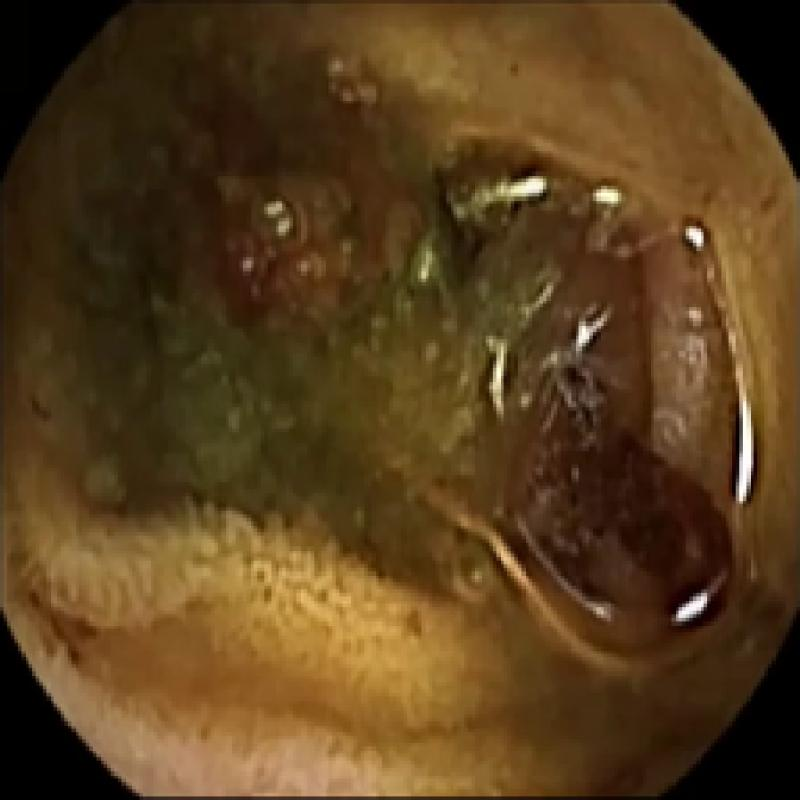bleeding: (502, 376, 733, 636), (211, 100, 271, 307)
